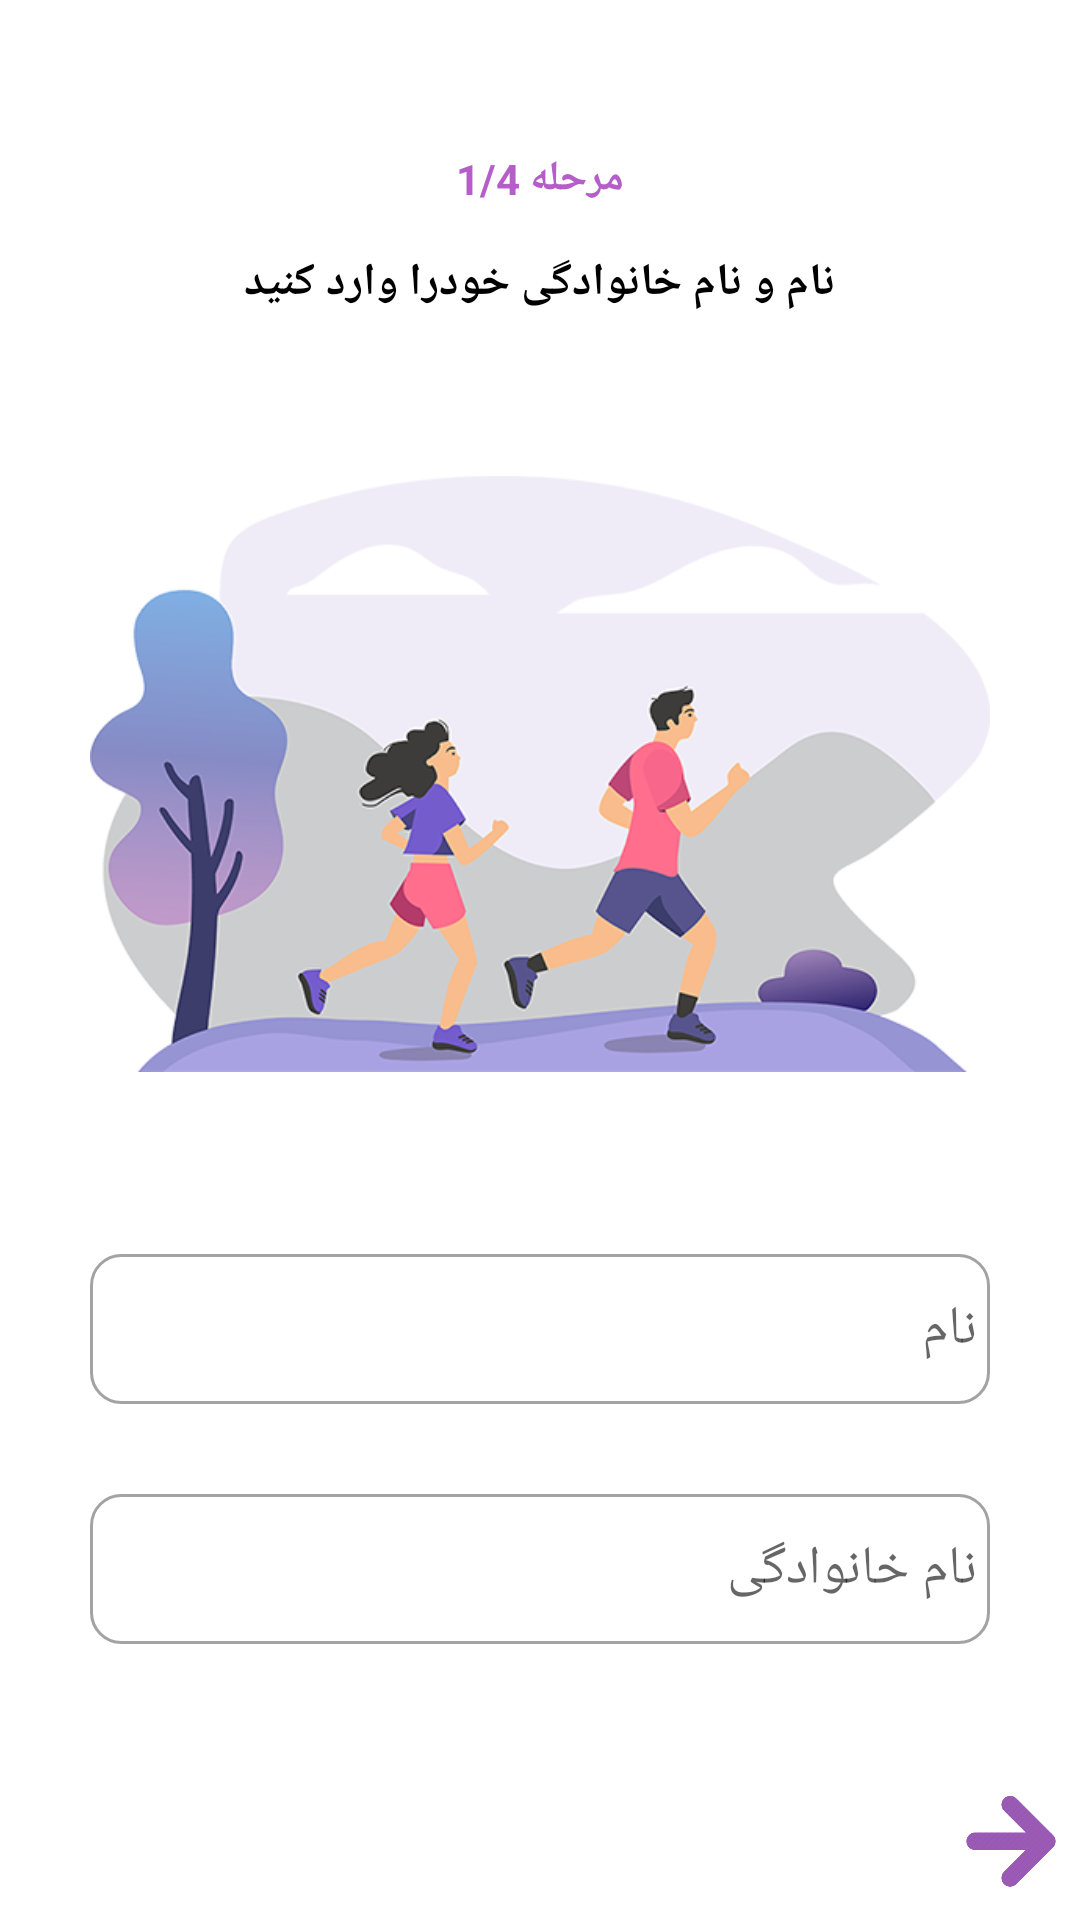

Where icons sit on this 1080px x 1920px app screen, as (x1, y1, x2, y2):
next: (966, 1796, 1056, 1887)
